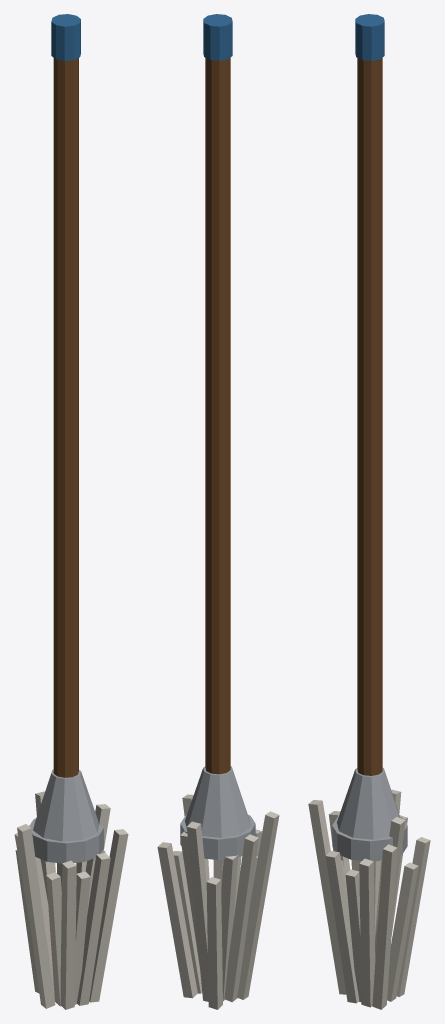
The model's file is mop.glb.
3 renders of one model, left to right at view 1: azimuth 30°, elevation 25°; view 2: azimuth 150°, elevation 25°; view 3: azimuth 330°, elevation 25°, orthographic.
Visible parts, largest first — view 1: mop; view 2: mop; view 3: mop.
Boxes of the visible parts, <box> form: mop: <box>14,14,128,1009</box>; mop: <box>157,14,279,1009</box>; mop: <box>308,14,430,1009</box>.
Bounding box in the file's own units: 0.1451 × 1.43 × 0.1311.
